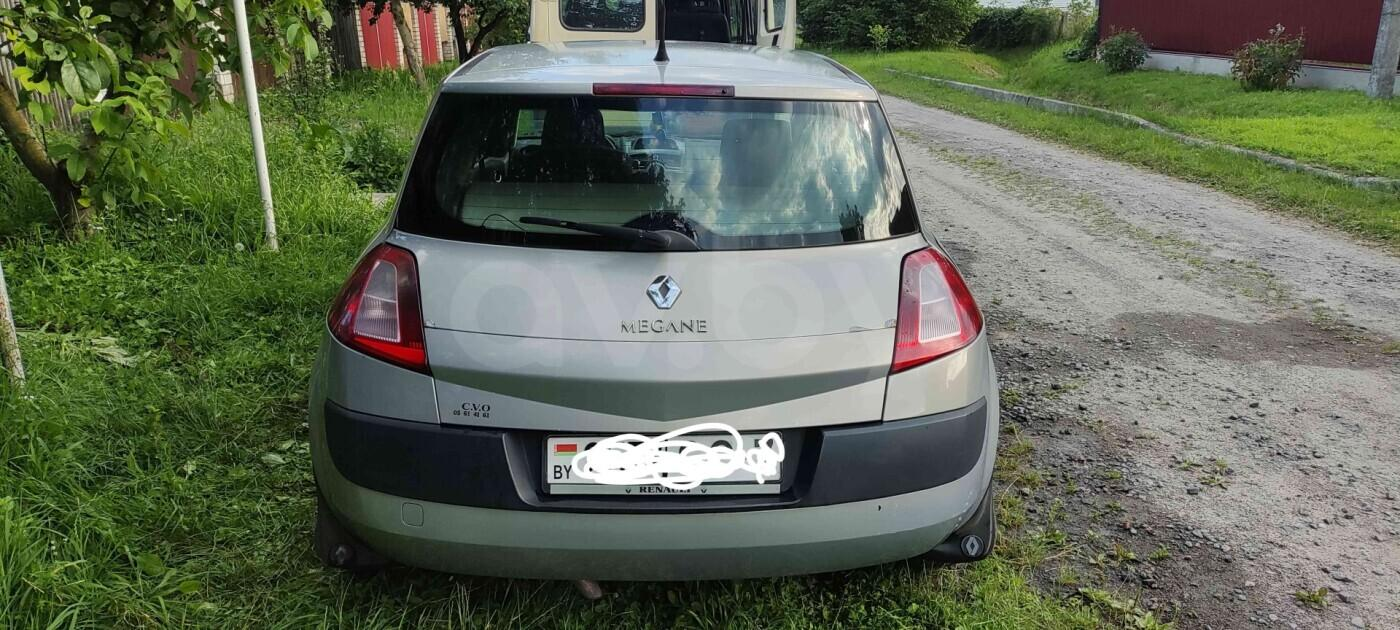Megane_2002-2006: (310, 36, 1004, 587)
